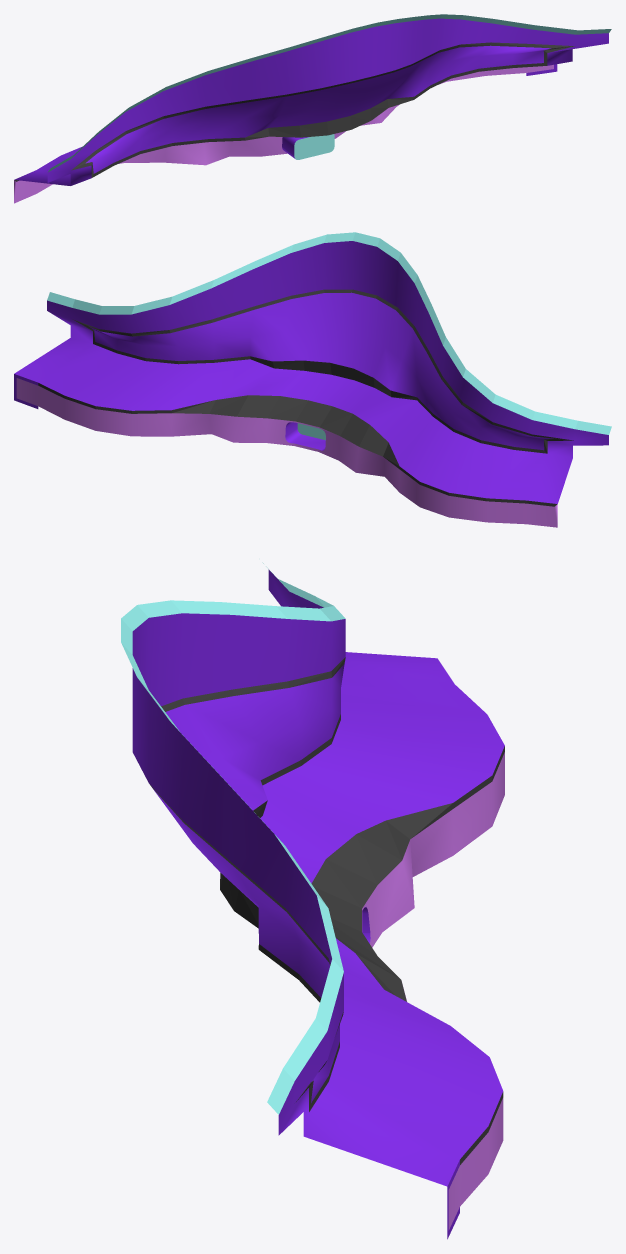
Rendered from Progeny  Conference Building.FBX.
3 views of the same model, one above another, from view 1: azimuth 30°, elevation 25°; view 2: azimuth 150°, elevation 25°; view 3: azimuth 270°, elevation 25° (orthographic). The views are drawn at different scales.
Parts seen in each view (by area): view 1: Cylinder006; view 2: Cylinder006; view 3: Cylinder006.
Part boxes in pixels (x1,y1,x2,y2): Cylinder006: (14,14,611,203); Cylinder006: (14,232,611,527); Cylinder006: (121,562,504,1239).
Size of the model in its own units: 12354 by 3625 by 3671.
